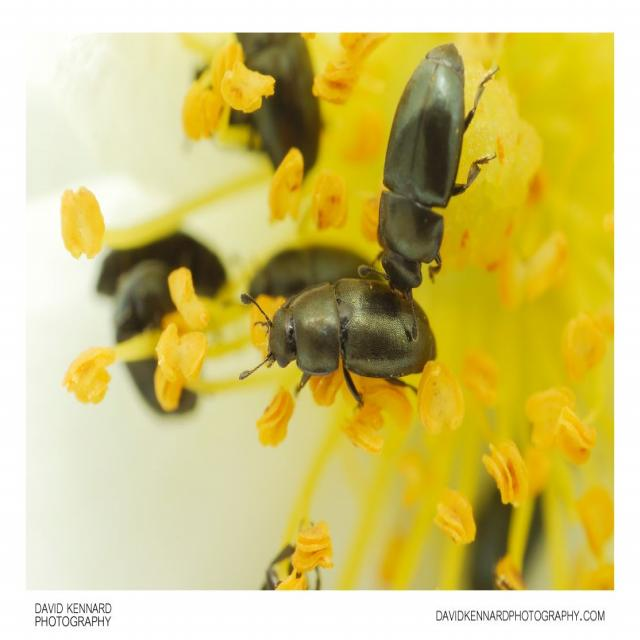pollen_beetle: (357, 38, 487, 350), (222, 266, 449, 422)
